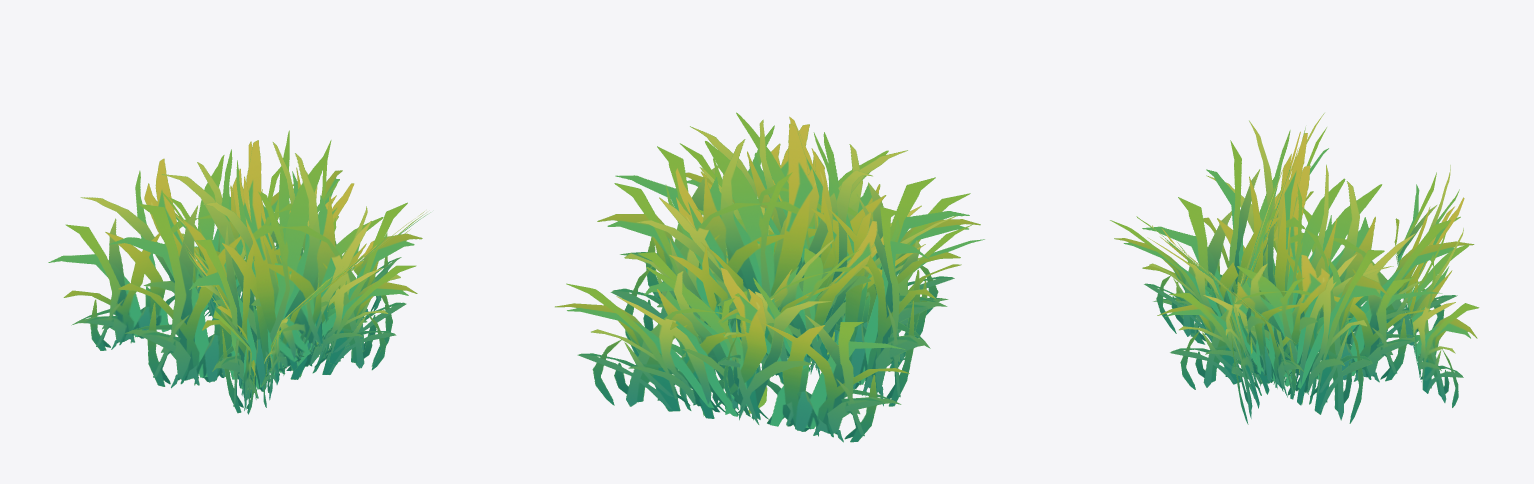
The model's file is SM_Grass.fbx.
3 views of the same model, side by side, from view 1: azimuth 30°, elevation 25°; view 2: azimuth 150°, elevation 25°; view 3: azimuth 270°, elevation 25° (orthographic). The views are drawn at different scales.
Visible parts, largest first — view 1: pPlane7; view 2: pPlane7; view 3: pPlane7.
Boxes of the visible parts, left/top/right/bottom form: pPlane7: left=48, top=130, right=430, bottom=414; pPlane7: left=555, top=112, right=984, bottom=442; pPlane7: left=1110, top=113, right=1479, bottom=424.
Bounding box in the file's own units: 1.12 × 0.9208 × 1.1.
1 material, 1 textured.
